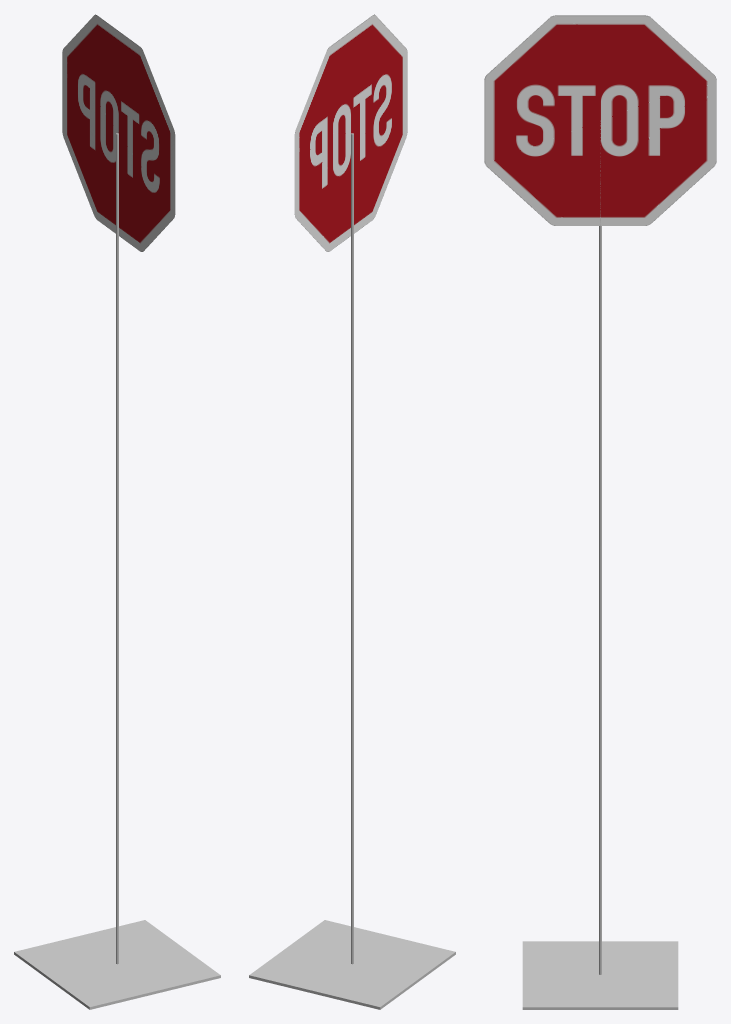
File: Stopschild.fbx
3 renders of one model, left to right at view 1: azimuth 30°, elevation 25°; view 2: azimuth 150°, elevation 25°; view 3: azimuth 270°, elevation 25°, orthographic. The views are drawn at different scales.
Parts seen in each view (by area): view 1: Shild, Cube, Cylinder001; view 2: Shild, Cube, Cylinder001; view 3: Shild, Cube, Cylinder001.
Part boxes in pixels (x1,y1,x2,y2): Shild: (62, 14, 175, 251); Cube: (14, 920, 220, 1009); Cylinder001: (116, 133, 118, 964); Shild: (294, 14, 407, 251); Cube: (249, 920, 455, 1009); Cylinder001: (351, 133, 353, 964); Shild: (484, 15, 716, 225); Cube: (522, 941, 678, 1009); Cylinder001: (599, 125, 601, 974).
Bounding box in the file's own units: 69.36 × 473 × 104.
